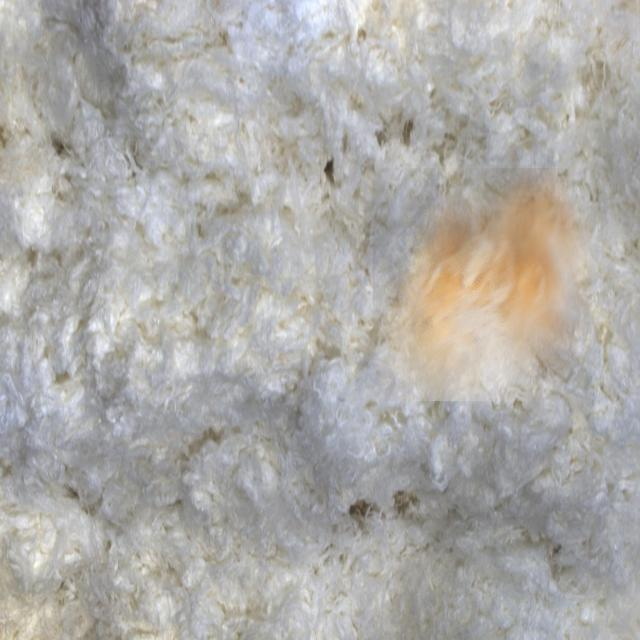dust: (373, 168, 591, 401)
